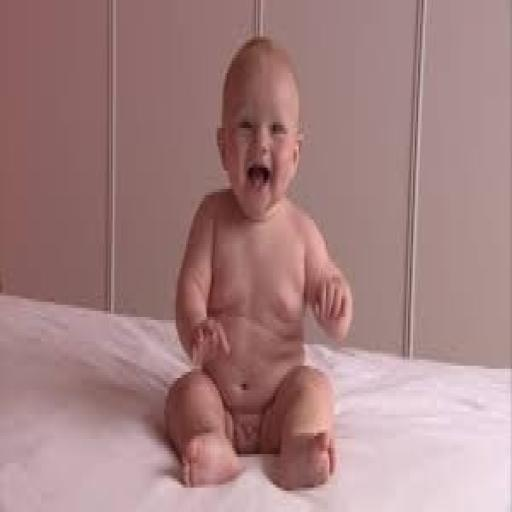laughing: (156, 27, 358, 494)
